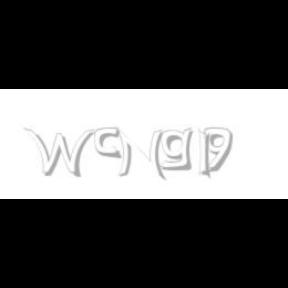9: (204, 128, 232, 172)
I: (198, 128, 212, 180)
N: (115, 128, 164, 180)
W: (23, 128, 95, 178)
c: (94, 128, 124, 160)
g: (160, 128, 197, 171)
